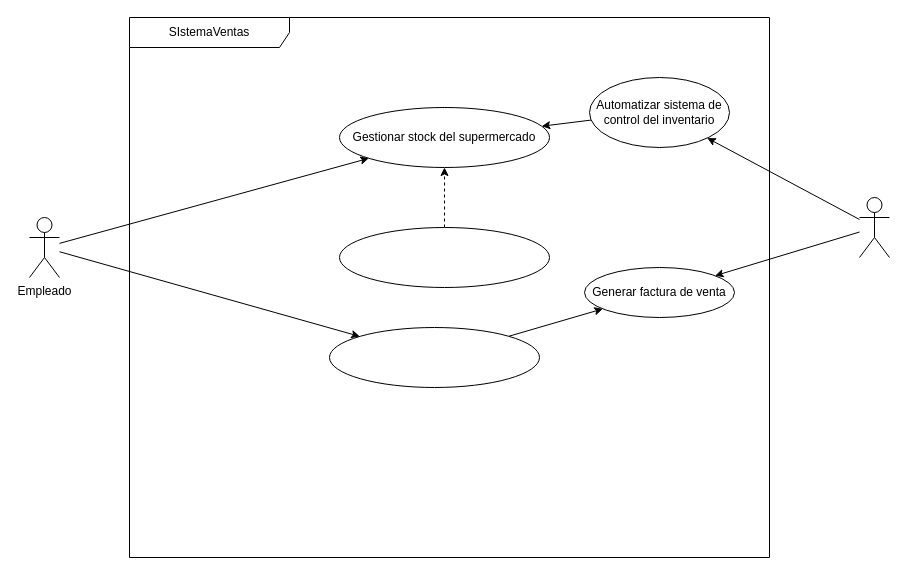
The diagram is 913 pixels wide and 575 high, and some of its shapes have lost their labels. The centre of each missing label's shape, as x and y in pixels:
Ingresar clave de seguridad: (x=444, y=257)
Sistema: (x=874, y=227)
Vender productos del supermercado: (x=434, y=357)
